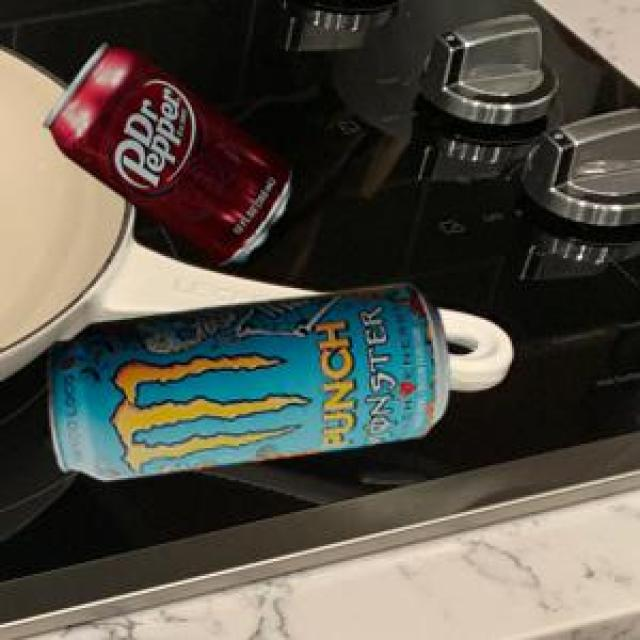logam: (46, 281, 447, 477), (42, 39, 287, 261)
